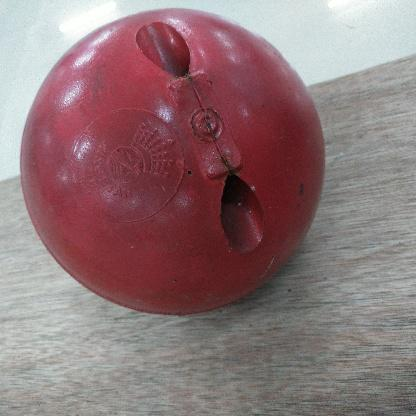red_buoy: (22, 7, 331, 318)
